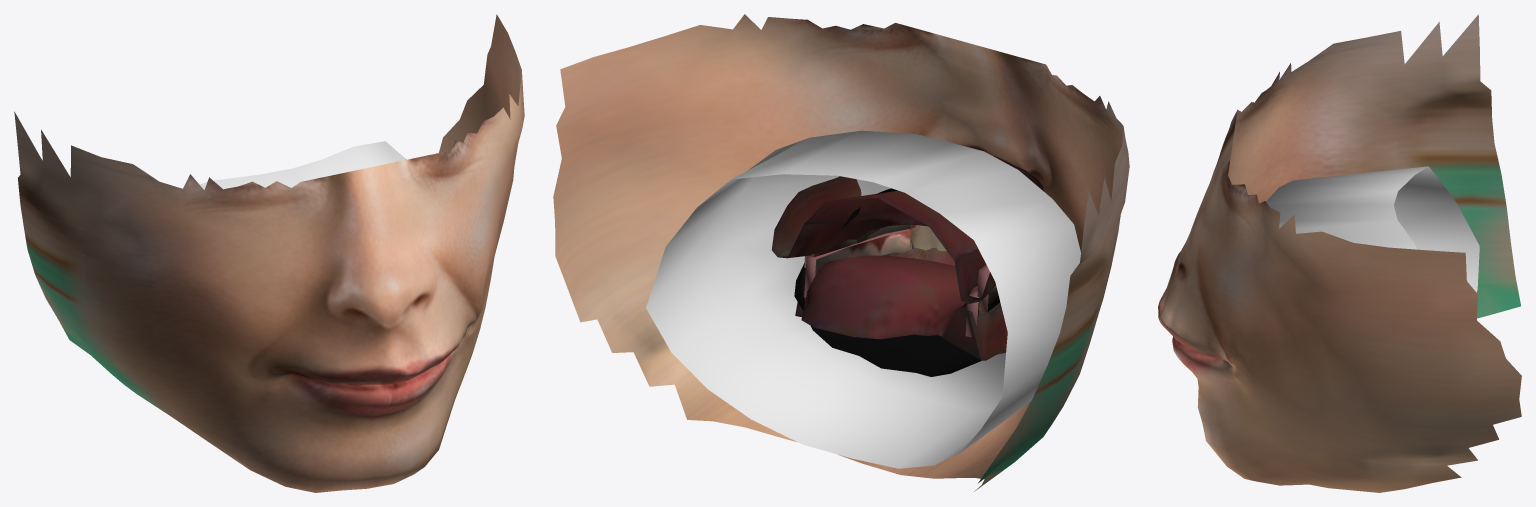
The picture shows the model from 3 angles, left to right: view 1: azimuth 30°, elevation 25°; view 2: azimuth 150°, elevation 25°; view 3: azimuth 270°, elevation 25°; orthographic projection. The views are drawn at different scales.
Visible parts, largest first — view 1: Face, occlusion; view 2: Face, occlusion, Teeth; view 3: Face, occlusion.
Part boxes in pixels (x1=…): Face: x1=14, y1=14, x2=524, y2=492; occlusion: x1=199, y1=141, x2=406, y2=189; Face: x1=553, y1=14, x2=1129, y2=491; occlusion: x1=646, y1=130, x2=1080, y2=468; Teeth: x1=772, y1=155, x2=1043, y2=376; Face: x1=1158, y1=14, x2=1521, y2=492; occlusion: x1=1266, y1=166, x2=1479, y2=292.
Size of the model in its own units: 6.49 by 4.68 by 4.43.
Materials: 2 (1 with a texture image).
